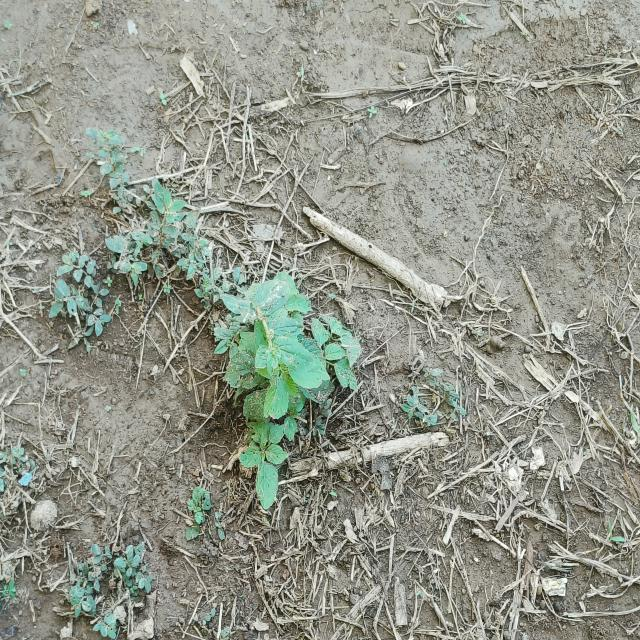weed: (50, 165, 335, 503), (76, 545, 155, 624), (182, 492, 233, 553)
